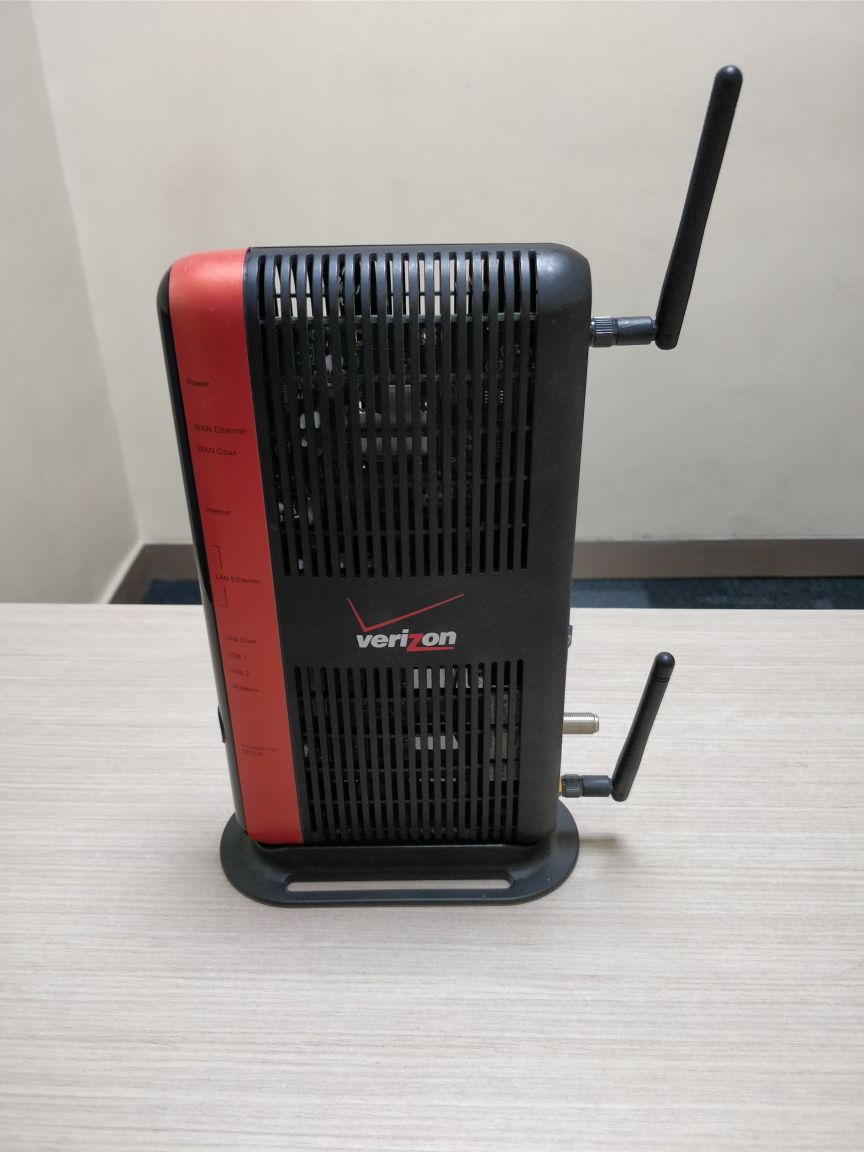Verizon Router: (123, 173, 755, 968)
